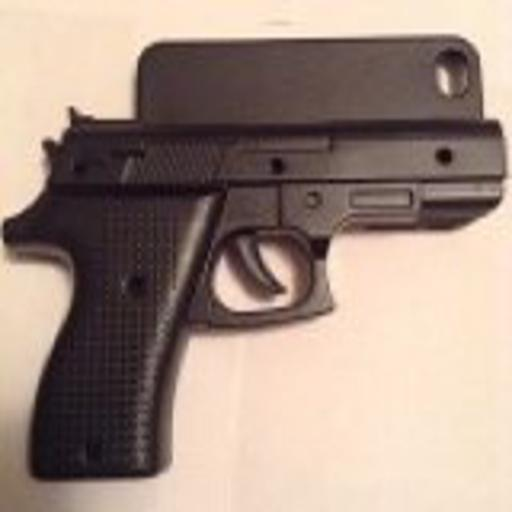Handgun: (2, 24, 511, 481)
